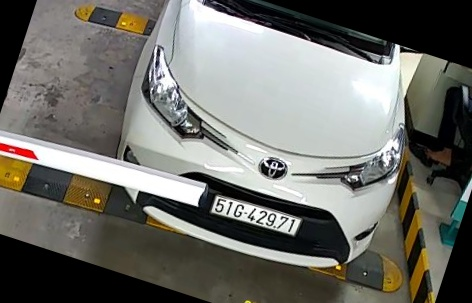plate: (209, 191, 305, 243)
